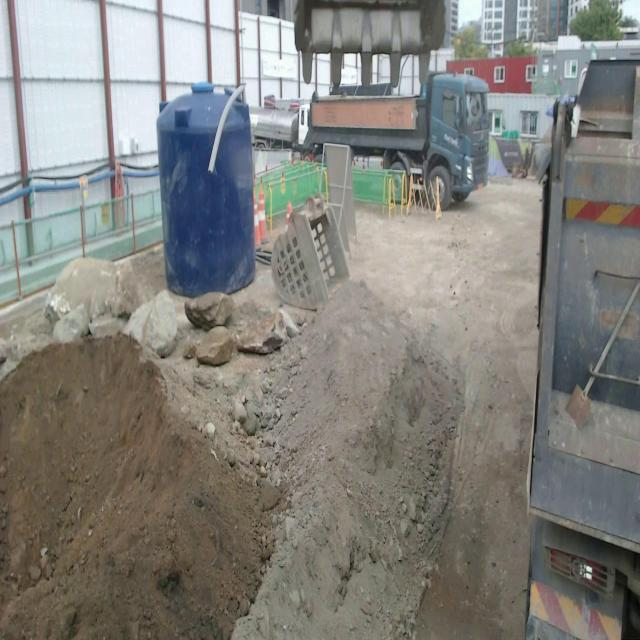red-sand: (0, 183, 540, 639)
rocks: (199, 350, 301, 468)
stone: (50, 257, 117, 317), (44, 292, 124, 341), (124, 290, 177, 356), (236, 309, 299, 354), (111, 255, 143, 318), (184, 292, 234, 330), (195, 326, 236, 366)
